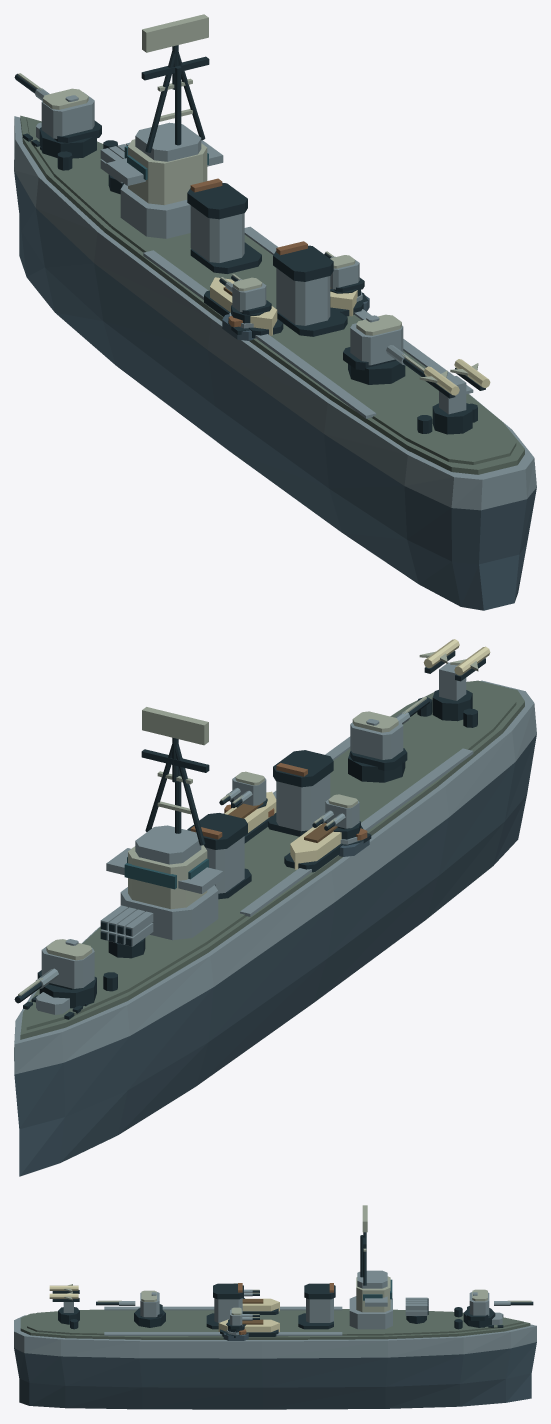
File: historic-charles-adams.glb
The picture shows the model from 3 angles, top to bottom: view 1: azimuth 30°, elevation 25°; view 2: azimuth 150°, elevation 25°; view 3: azimuth 270°, elevation 25°; orthographic projection. The views are drawn at different scales.
Parts seen in each view (by area): view 1: historic-charles-adams-historic-charles-adams-geometry, historic-charles-adams-part_bridge.139-geometry, historic-charles-adams-historic_funnel_0.132-geometry, historic-charles-adams-historic_funnel_1.077-geometry, historic-charles-adams-turret_main_0.108-geometry, historic-charles-adams-turret_main_1.100-geometry, historic-charles-adams-naval_launcher_0.014-geometry, historic-charles-adams-turret_aa_aa-port.141-geometry, historic-charles-adams-turret_aa_aa-starboard.137-geometry; view 2: historic-charles-adams-historic-charles-adams-geometry, historic-charles-adams-part_bridge.139-geometry, historic-charles-adams-historic_funnel_1.077-geometry, historic-charles-adams-turret_main_1.100-geometry, historic-charles-adams-turret_main_0.108-geometry, historic-charles-adams-historic_funnel_0.132-geometry, historic-charles-adams-naval_launcher_0.014-geometry, historic-charles-adams-naval_launcher_1.010-geometry, historic-charles-adams-turret_aa_aa-port.141-geometry, historic-charles-adams-turret_aa_aa-starboard.137-geometry; view 3: historic-charles-adams-historic-charles-adams-geometry, historic-charles-adams-part_bridge.139-geometry, historic-charles-adams-historic_funnel_0.132-geometry, historic-charles-adams-turret_main_0.108-geometry, historic-charles-adams-turret_main_1.100-geometry, historic-charles-adams-historic_funnel_1.077-geometry, historic-charles-adams-naval_launcher_0.014-geometry, historic-charles-adams-naval_launcher_1.010-geometry, historic-charles-adams-turret_aa_aa-starboard.137-geometry.
Part boxes in pixels (x1,y1,x2,y2): historic-charles-adams-historic-charles-adams-geometry: (14,115,536,610); historic-charles-adams-part_bridge.139-geometry: (106,14,223,238); historic-charles-adams-historic_funnel_0.132-geometry: (187,178,261,273); historic-charles-adams-historic_funnel_1.077-geometry: (273,241,347,336); historic-charles-adams-turret_main_0.108-geometry: (14,73,101,158); historic-charles-adams-turret_main_1.100-geometry: (343,314,424,384); historic-charles-adams-naval_launcher_0.014-geometry: (419,359,490,434); historic-charles-adams-turret_aa_aa-port.141-geometry: (219,274,271,323); historic-charles-adams-turret_aa_aa-starboard.137-geometry: (324,251,364,296); historic-charles-adams-historic-charles-adams-geometry: (14,680,536,1176); historic-charles-adams-part_bridge.139-geometry: (106,707,223,940); historic-charles-adams-historic_funnel_1.077-geometry: (268,750,333,836); historic-charles-adams-turret_main_1.100-geometry: (348,696,430,782); historic-charles-adams-turret_main_0.108-geometry: (14,939,96,1008); historic-charles-adams-historic_funnel_0.132-geometry: (187,813,251,899); historic-charles-adams-naval_launcher_0.014-geometry: (419,639,490,721); historic-charles-adams-naval_launcher_1.010-geometry: (100,905,153,958); historic-charles-adams-turret_aa_aa-port.141-geometry: (312,794,360,839); historic-charles-adams-turret_aa_aa-starboard.137-geometry: (219,771,267,808); historic-charles-adams-historic-charles-adams-geometry: (14,1298,536,1409); historic-charles-adams-part_bridge.139-geometry: (349,1205,392,1329); historic-charles-adams-historic_funnel_0.132-geometry: (298,1283,335,1329); historic-charles-adams-turret_main_0.108-geometry: (463,1289,533,1327); historic-charles-adams-turret_main_1.100-geometry: (96,1290,165,1327); historic-charles-adams-historic_funnel_1.077-geometry: (206,1283,243,1329); historic-charles-adams-naval_launcher_0.014-geometry: (49,1284,79,1324); historic-charles-adams-naval_launcher_1.010-geometry: (405,1297,428,1323); historic-charles-adams-turret_aa_aa-starboard.137-geometry: (226,1307,259,1332).
Bounding box in the file's own units: 0.6529 × 1.6 × 4.11.
